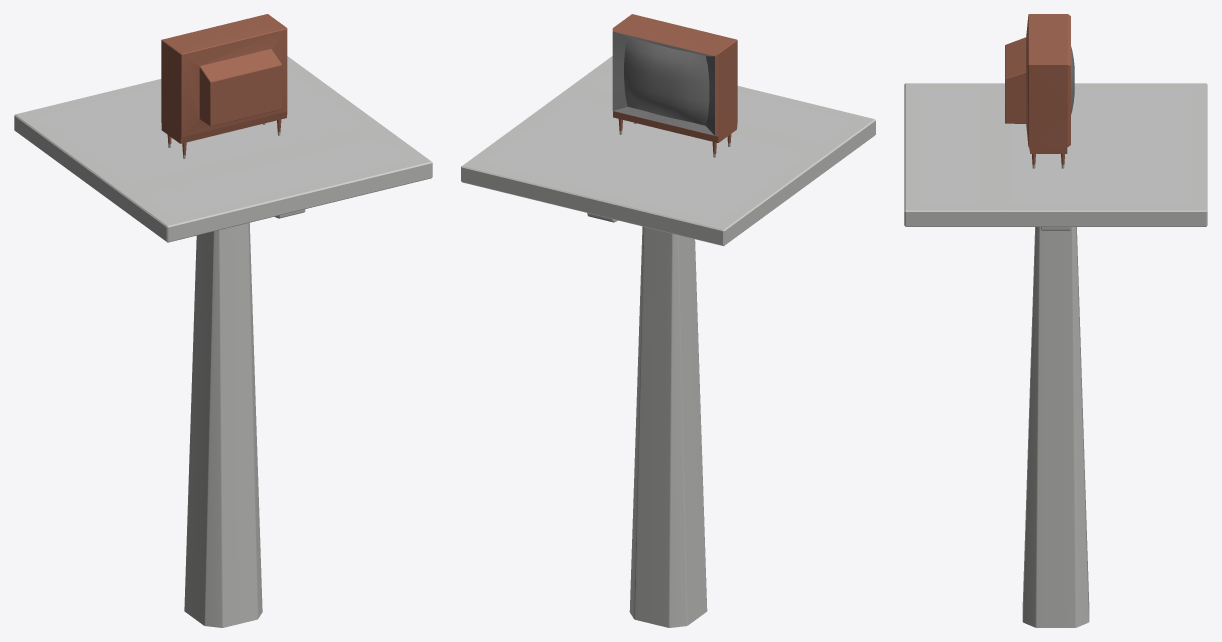
Rendered from PlatformColumn.fbx.
The picture shows the model from 3 angles, left to right: view 1: azimuth 30°, elevation 25°; view 2: azimuth 150°, elevation 25°; view 3: azimuth 270°, elevation 25°; orthographic projection.
Visible parts, largest first — view 1: PlatformColumn_Floor, Television; view 2: PlatformColumn_Floor, Television; view 3: PlatformColumn_Floor, Television.
Boxes of the visible parts, <box> form: PlatformColumn_Floor: <box>14,56,432,627</box>; Television: <box>161,14,287,158</box>; PlatformColumn_Floor: <box>461,56,875,627</box>; Television: <box>612,14,737,157</box>; PlatformColumn_Floor: <box>904,83,1207,627</box>; Television: <box>1005,14,1074,168</box>.
Size of the model in its own units: 500 by 1043 by 500.
